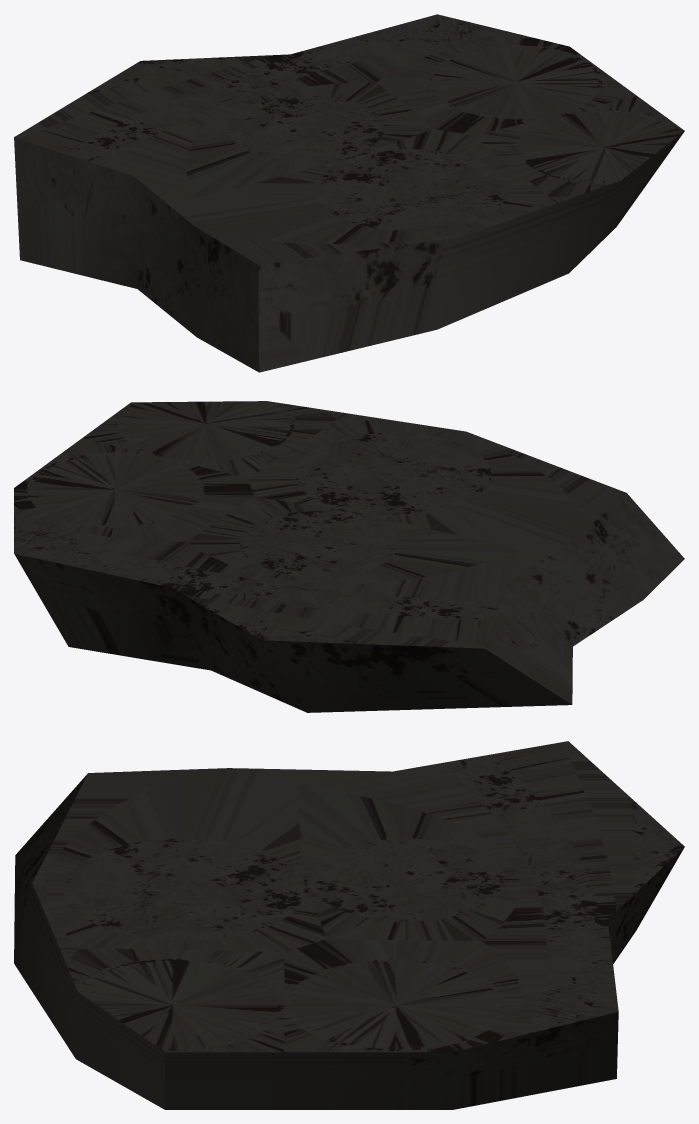
Rendered from Rubble01.FBX.
3 views of the same model, one above another, from view 1: azimuth 30°, elevation 25°; view 2: azimuth 150°, elevation 25°; view 3: azimuth 270°, elevation 25° (orthographic). The views are drawn at different scales.
Visible parts, largest first — view 1: Plane041; view 2: Plane041; view 3: Plane041.
Part boxes in pixels (x1=…): Plane041: x1=14, y1=14, x2=684, y2=372; Plane041: x1=14, y1=401, x2=684, y2=712; Plane041: x1=14, y1=741, x2=684, y2=1109.
Bounding box in the file's own units: 10858 × 1500 × 9175.
